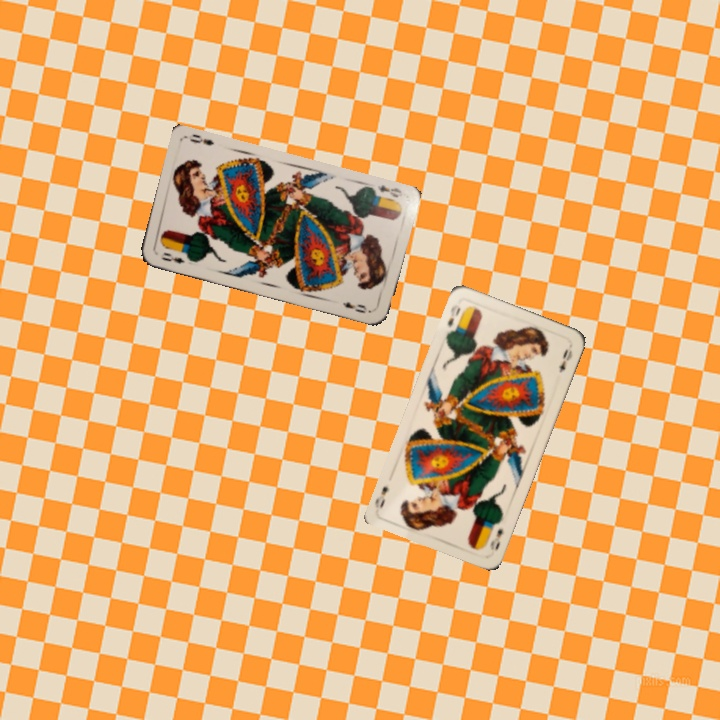EO: (373, 181, 405, 200), (443, 301, 463, 329), (486, 524, 506, 552), (157, 248, 187, 266)
